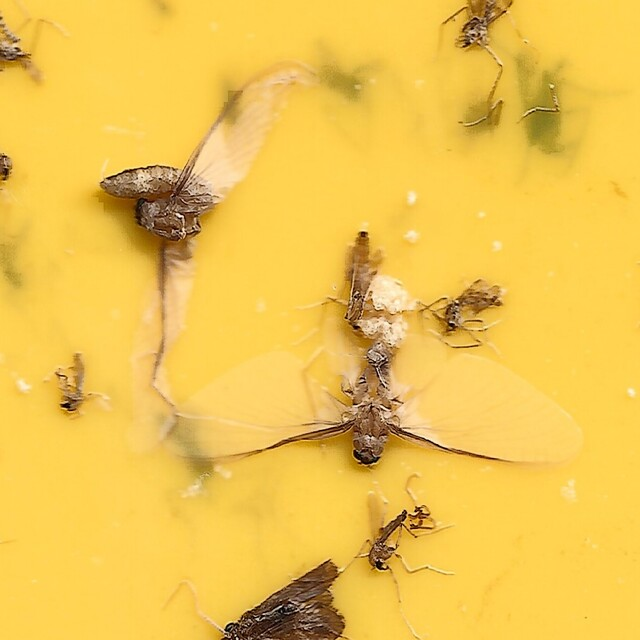Ephemeroptera: (172, 230, 585, 473), (98, 64, 294, 391)
Nematocera: (439, 278, 502, 345), (364, 488, 408, 576), (55, 350, 89, 415)
